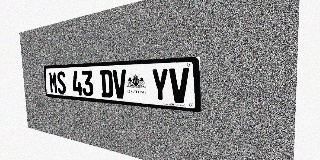3: (82, 70, 93, 96)
4: (72, 71, 83, 96)
D: (100, 70, 113, 98)
M: (49, 71, 58, 94)
S: (57, 71, 66, 94)
V: (169, 68, 189, 104), (112, 69, 127, 99)
Y: (151, 68, 169, 102)
